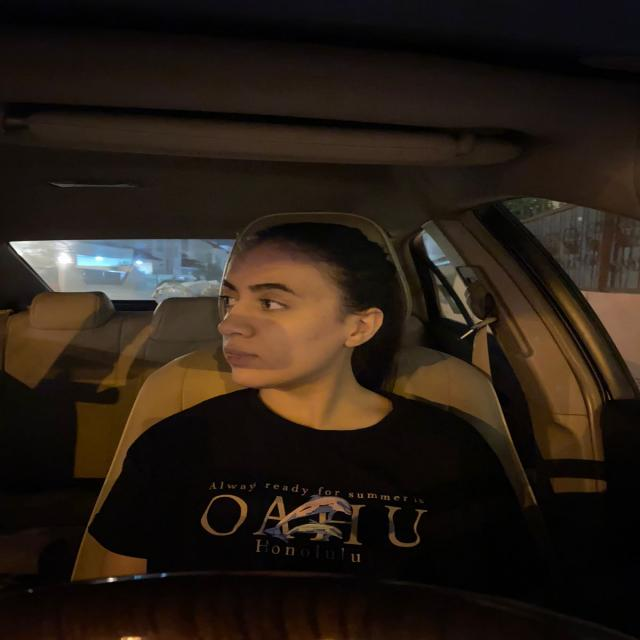LeftRight: (198, 211, 409, 432)
